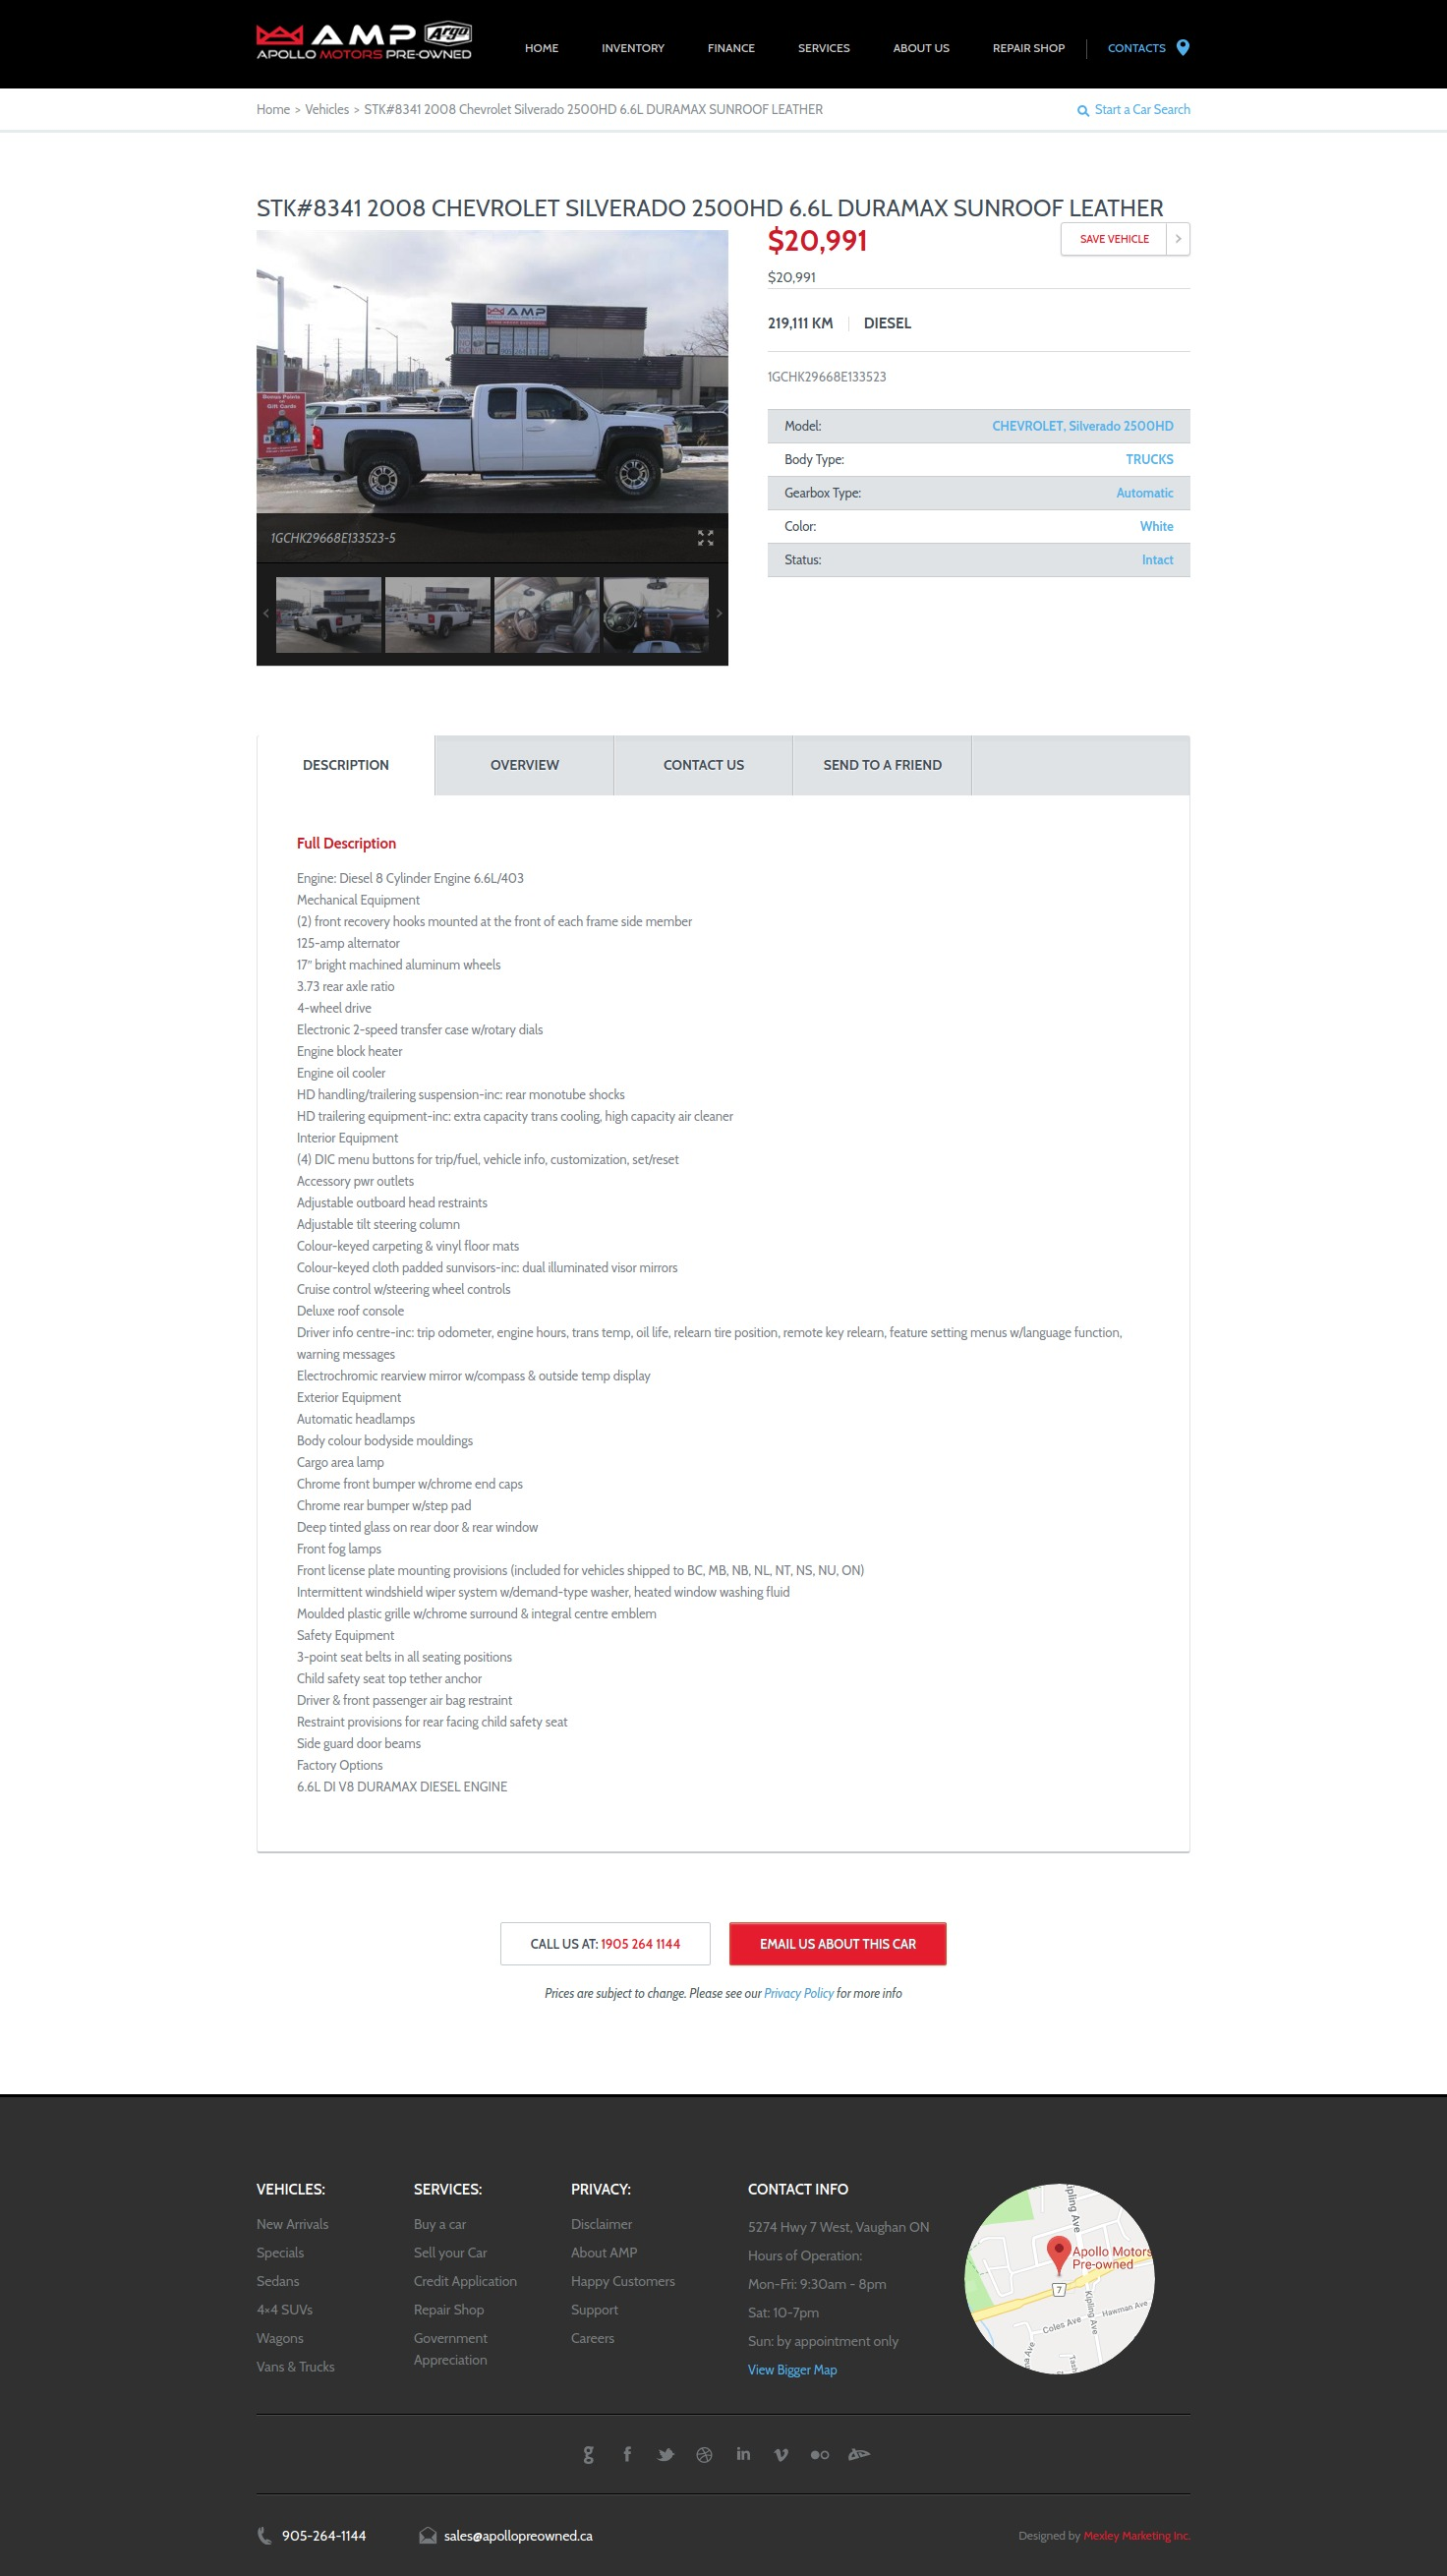car: (715, 605, 725, 625)
